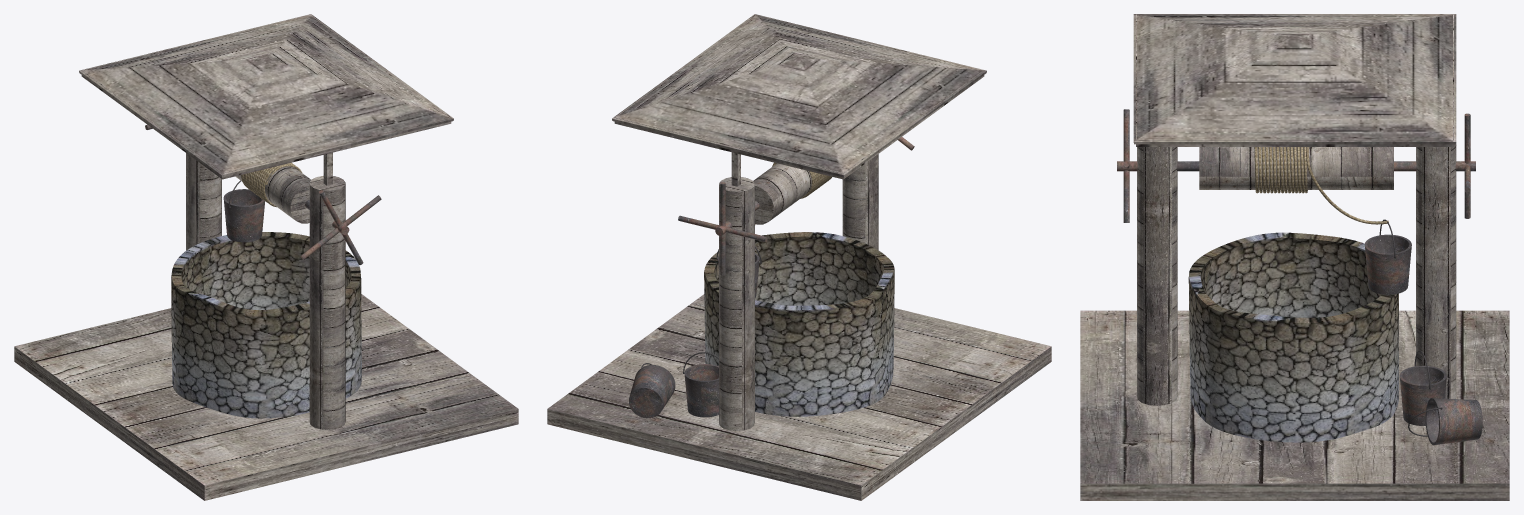
The model's file is well.fbx.
The picture shows the model from 3 angles, left to right: view 1: azimuth 30°, elevation 25°; view 2: azimuth 150°, elevation 25°; view 3: azimuth 270°, elevation 25°; orthographic projection. The views are drawn at different scales.
Visible parts, largest first — view 1: zemin_1, cati_1, kuyu_1, direkler_1, kovalar_1, mil_1, cark_1, ip_1; view 2: zemin_1, cati_1, kuyu_1, direkler_1, kovalar_1, mil_1, cark_1; view 3: zemin_1, cati_1, kuyu_1, direkler_1, kovalar_1, mil_1, ip_1, cark_1.
Part boxes in pixels (<box>): zemin_1: <box>14,294,518,500</box>; cati_1: <box>79,14,453,185</box>; kuyu_1: <box>171,232,361,418</box>; direkler_1: <box>186,153,345,429</box>; kovalar_1: <box>223,180,265,242</box>; mil_1: <box>235,166,310,223</box>; cark_1: <box>145,124,381,264</box>; ip_1: <box>241,162,302,207</box>; zemin_1: <box>547,294,1051,500</box>; cati_1: <box>612,14,986,186</box>; kuyu_1: <box>704,232,894,416</box>; direkler_1: <box>719,154,878,430</box>; kovalar_1: <box>629,246,761,418</box>; mil_1: <box>753,163,811,224</box>; cark_1: <box>678,137,914,275</box>; zemin_1: <box>1080,310,1509,500</box>; cati_1: <box>1133,14,1456,146</box>; kuyu_1: <box>1188,232,1398,442</box>; direkler_1: <box>1137,143,1456,405</box>; kovalar_1: <box>1364,219,1482,445</box>; mil_1: <box>1199,147,1393,189</box>; ip_1: <box>1254,147,1388,224</box>; cark_1: <box>1117,109,1475,222</box>.
Bounding box in the file's own units: 541 × 553 × 568.
Materials: 8 (8 with a texture image).
